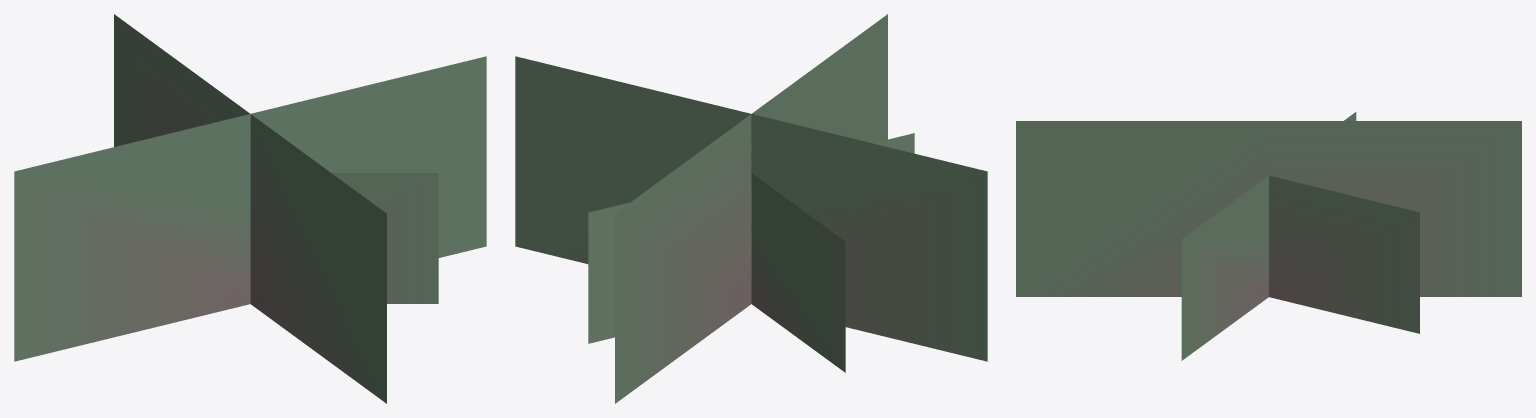
File: tree-shrub.glb
3 views of the same model, side by side, from view 1: azimuth 30°, elevation 25°; view 2: azimuth 150°, elevation 25°; view 3: azimuth 270°, elevation 25° (orthographic). The views are drawn at different scales.
Visible parts, largest first — view 1: tree-shrub; view 2: tree-shrub; view 3: tree-shrub.
Part boxes in pixels (box(x1,y1,x2,y2)): tree-shrub: box(14, 14, 486, 403); tree-shrub: box(515, 14, 987, 403); tree-shrub: box(1016, 112, 1521, 360).
Size of the model in its own units: 0.78 by 0.3 by 0.78.
